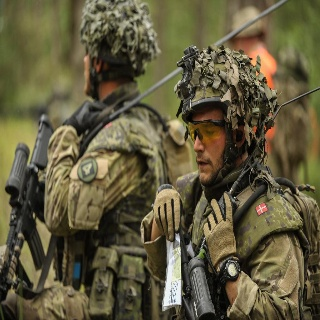rifle: (2, 111, 54, 304)
